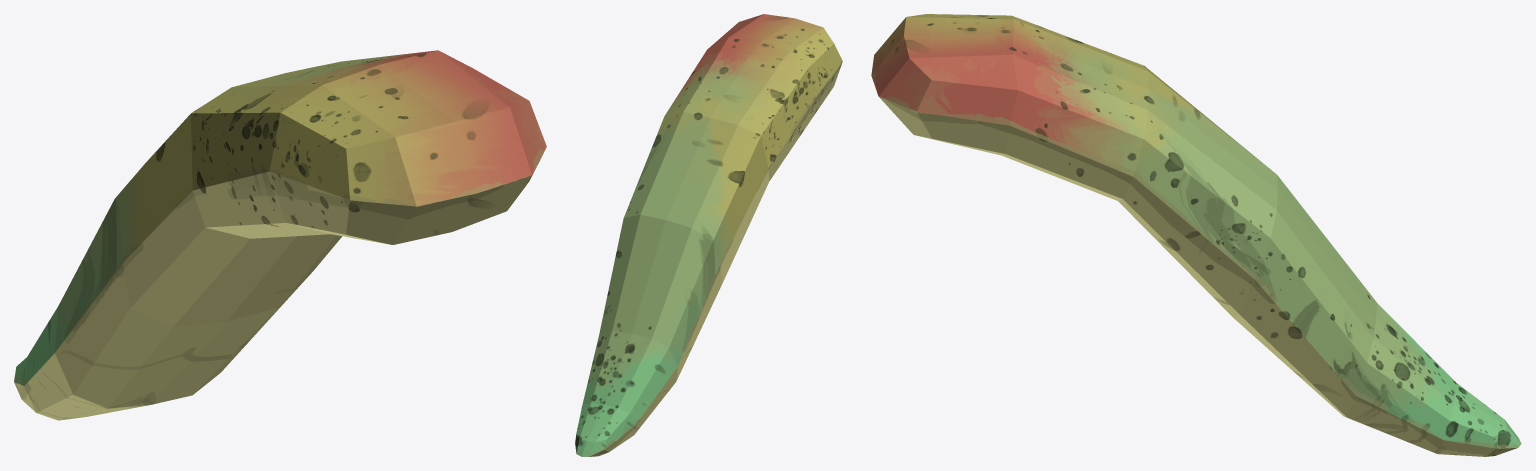
The model's file is coladeiguanappTexturizada.fbx.
3 renders of one model, left to right at view 1: azimuth 30°, elevation 25°; view 2: azimuth 150°, elevation 25°; view 3: azimuth 270°, elevation 25°, orthographic. The views are drawn at different scales.
Parts seen in each view (by area): view 1: Cube; view 2: Cube; view 3: Cube.
Part boxes in pixels (x1,y1,x2,y2): Cube: (14, 50, 546, 420); Cube: (575, 14, 842, 456); Cube: (871, 14, 1521, 456).
Size of the model in its own units: 56.47 by 135 by 191.
Materials: 1 (1 with a texture image).
